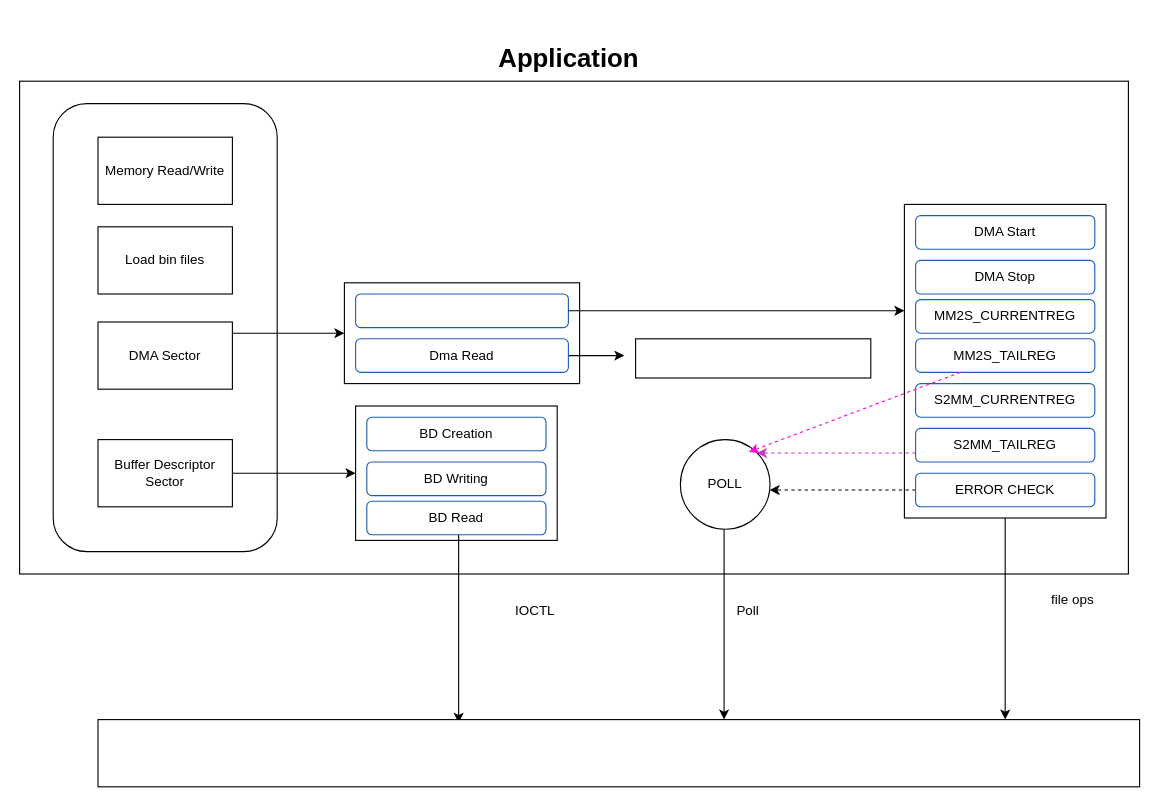
The diagram is 1159 pixels wide and 806 high, and some of its shapes have lost their labels. Each missing label, with the centre of its shape:
"DMA Write" belongs at [461,310].
"Driver" belongs at [618,752].
"Shows all dma registers" belongs at [752,358].
